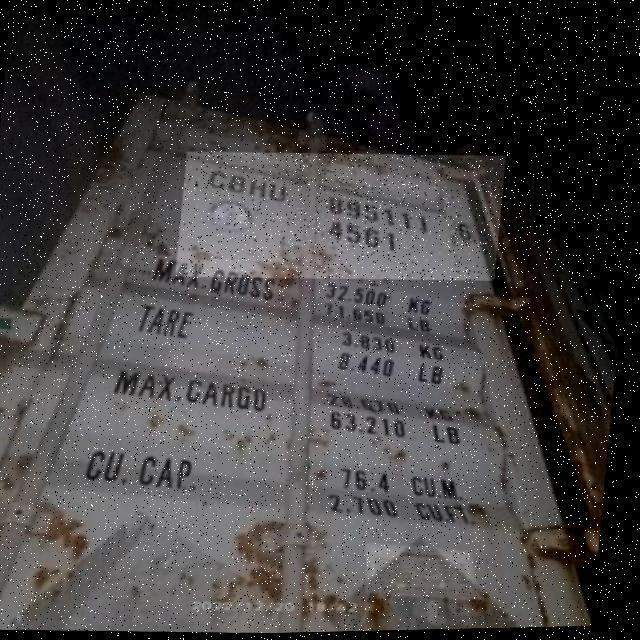container_number_h: (178, 147, 508, 288)
